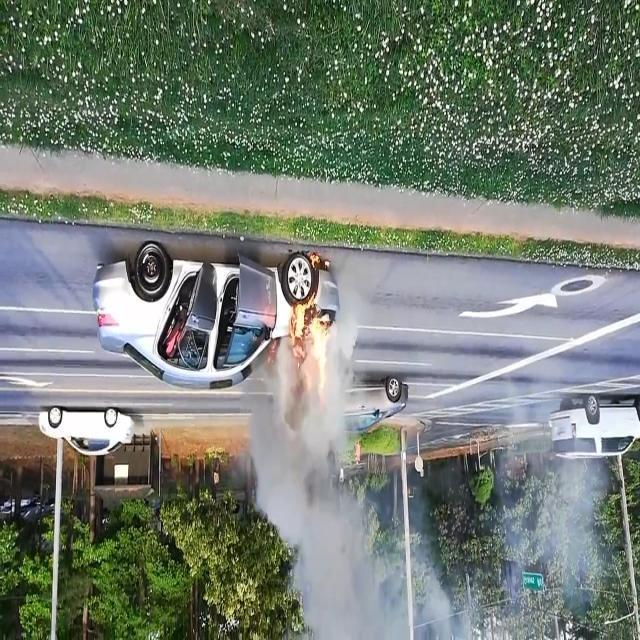fire: (266, 253, 336, 414)
